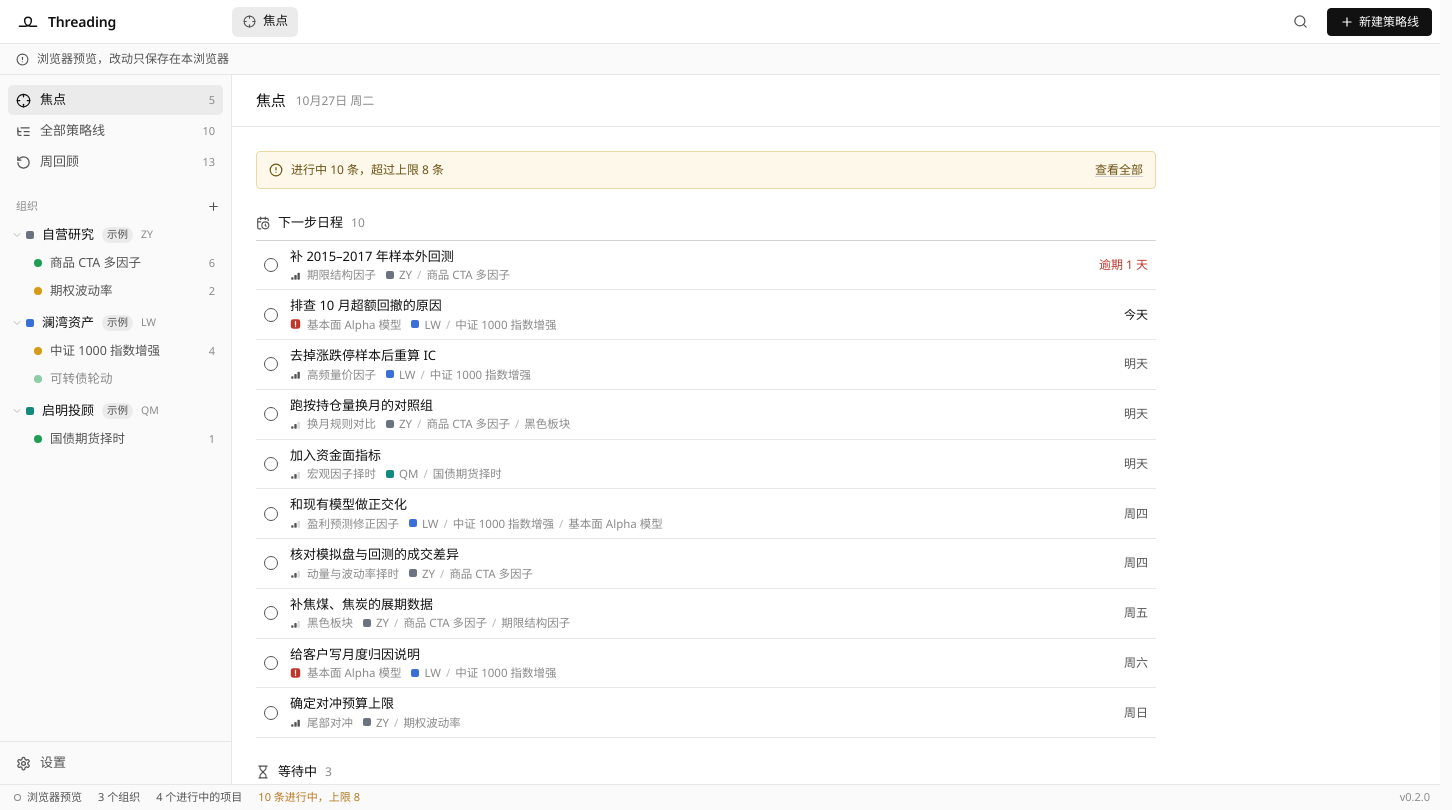
it: Threading › shows a project with its threads, hill chart and activity
Expected: the heading "焦点" is shown, [256,89,286,112]
Click the button "中证 1000 指数增强 4" at (116, 351), box [8,337,223,365]
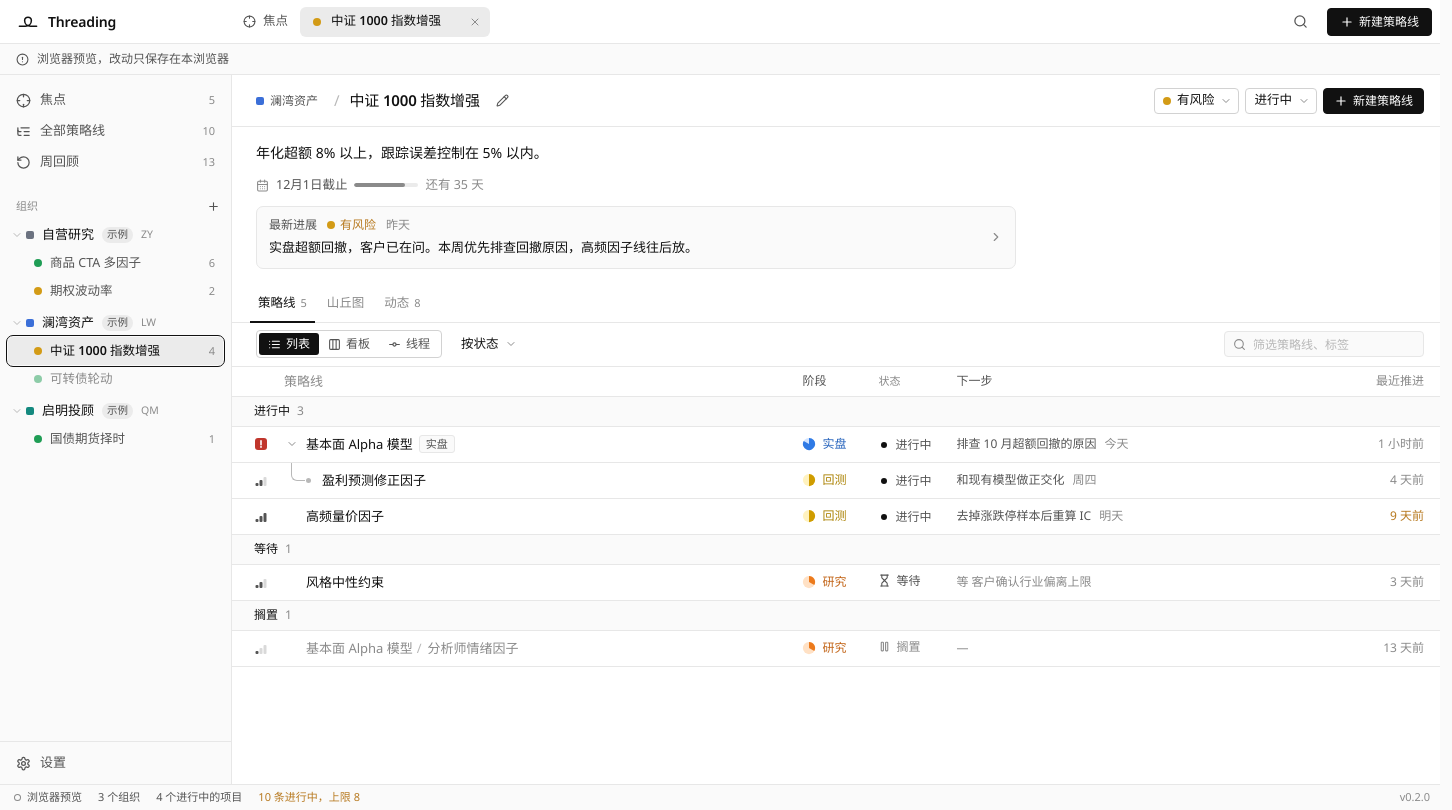
Result: the heading "中证 1000 指数增强" is shown at [334,89,480,112]
Result: the text "基本面 Alpha 模型" is shown 2 times at [306,435,413,454]; [306,639,413,658]
Click the button "山丘图" at (346, 304), box [319,286,372,323]
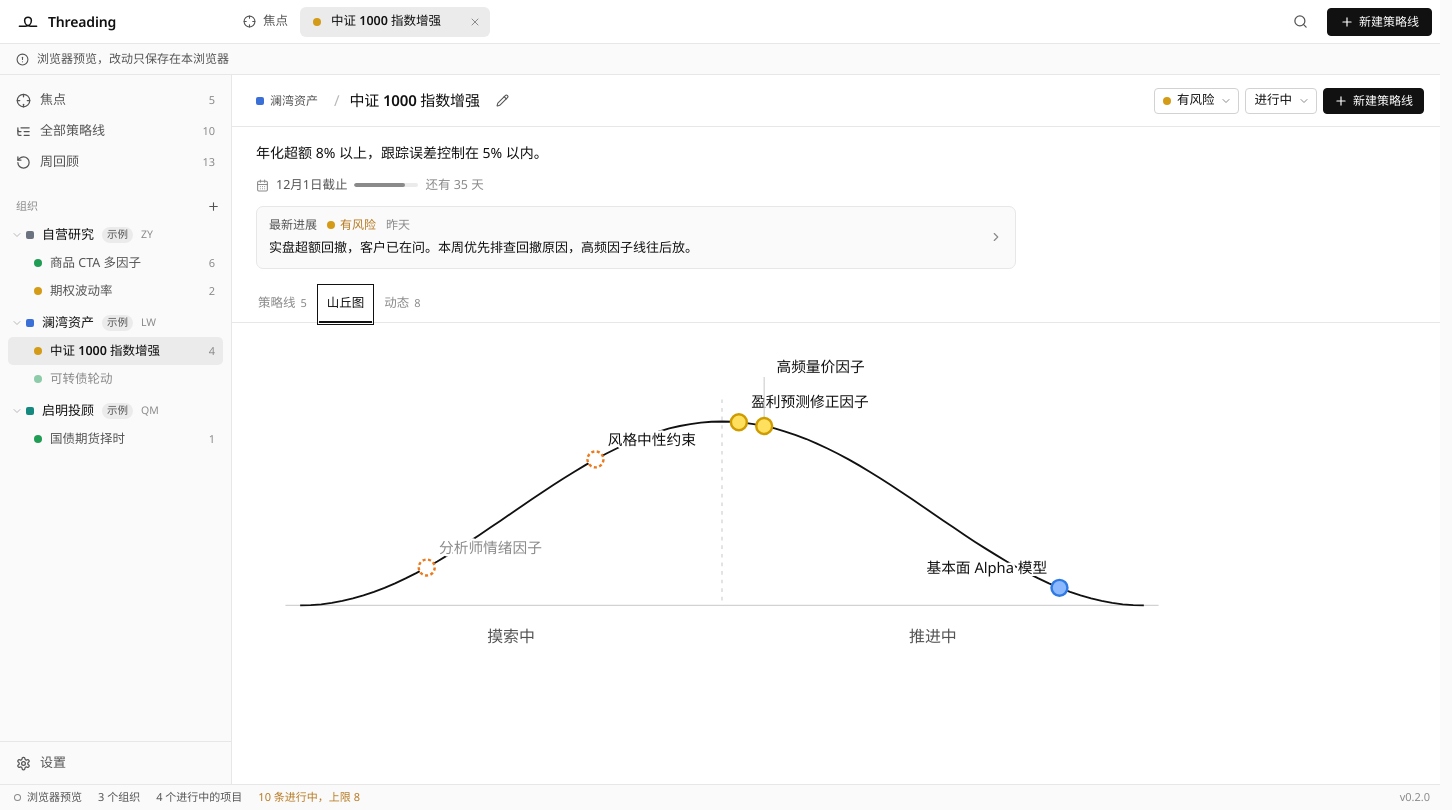
Click the button "动态 8" at (402, 304), box [376,286,429,323]
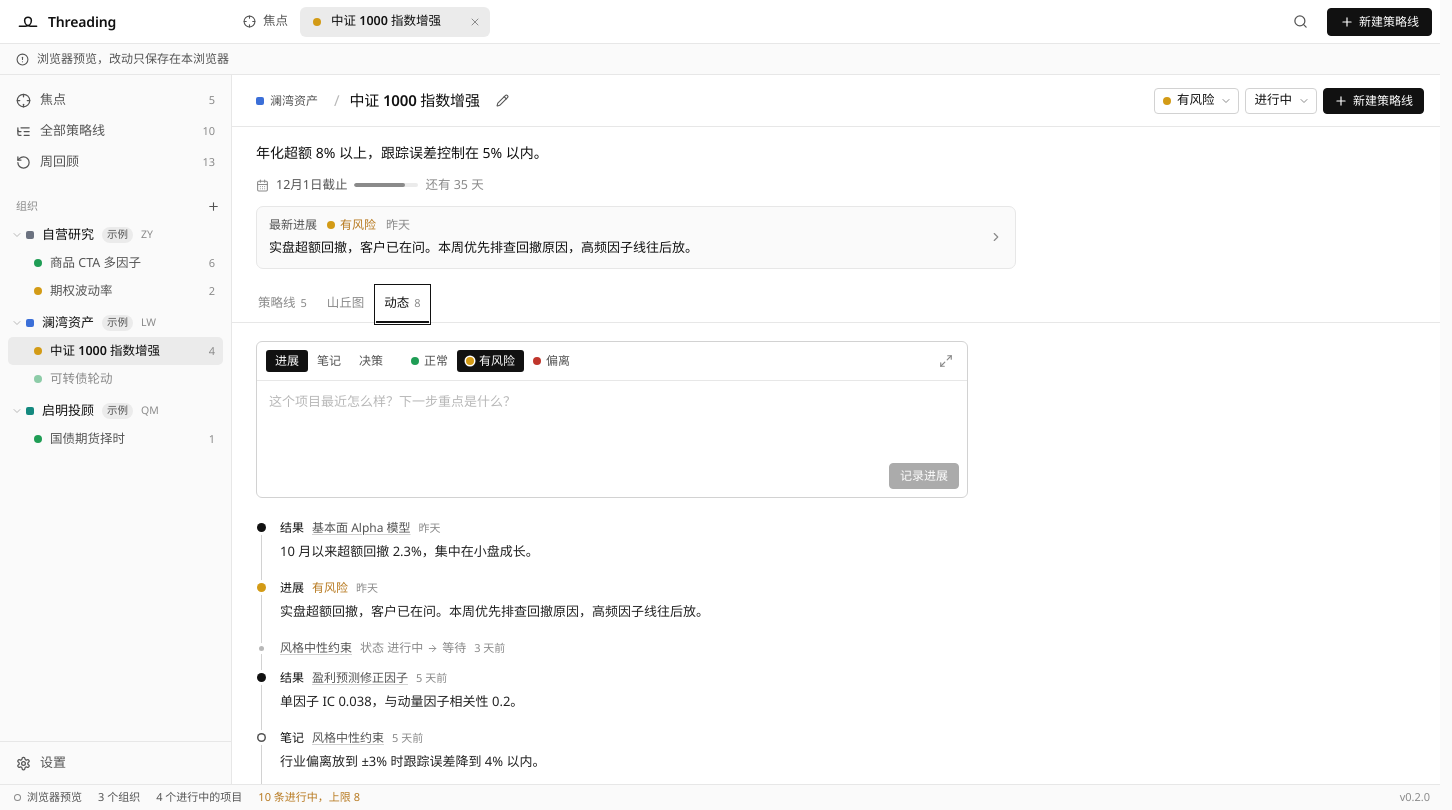
Type "回撤原因找到了，是小盘因子暴露。" into the text box named "记录内容" at (612, 419), box [257,381,967,457]
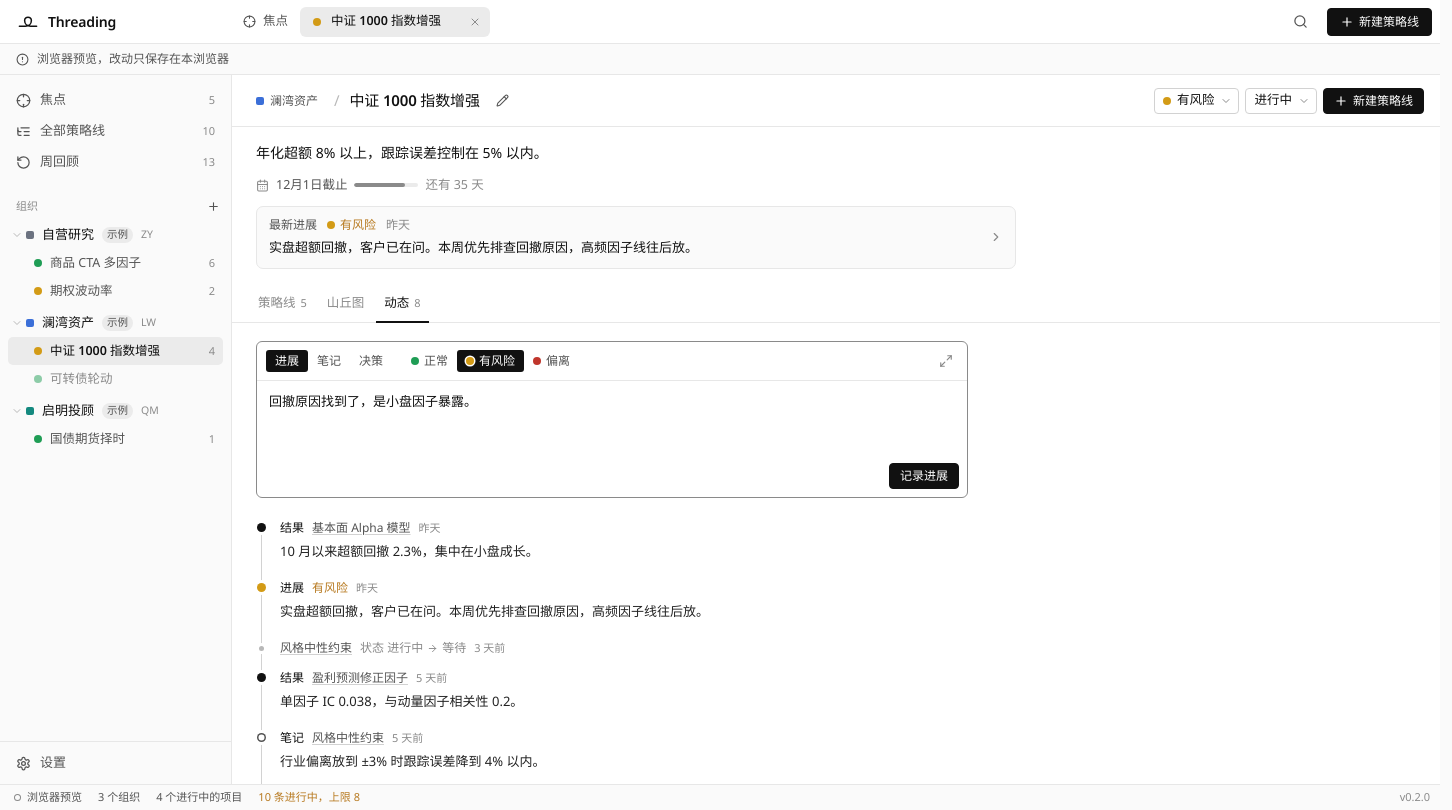
Click the radio button labelled "正常" at (430, 361), box [402,350,457,372]
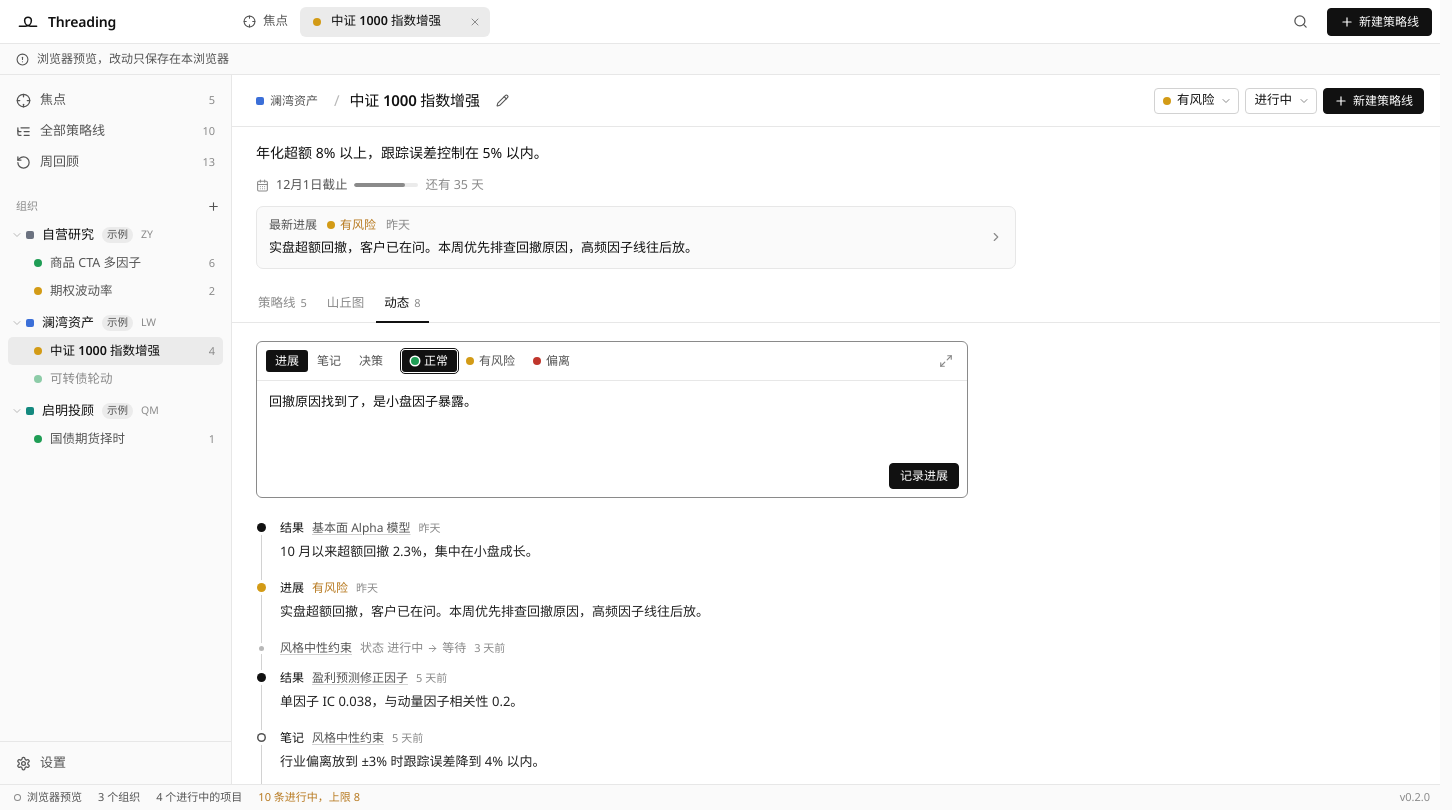
Click the button "记录进展" at (924, 476), box [889,463,959,489]
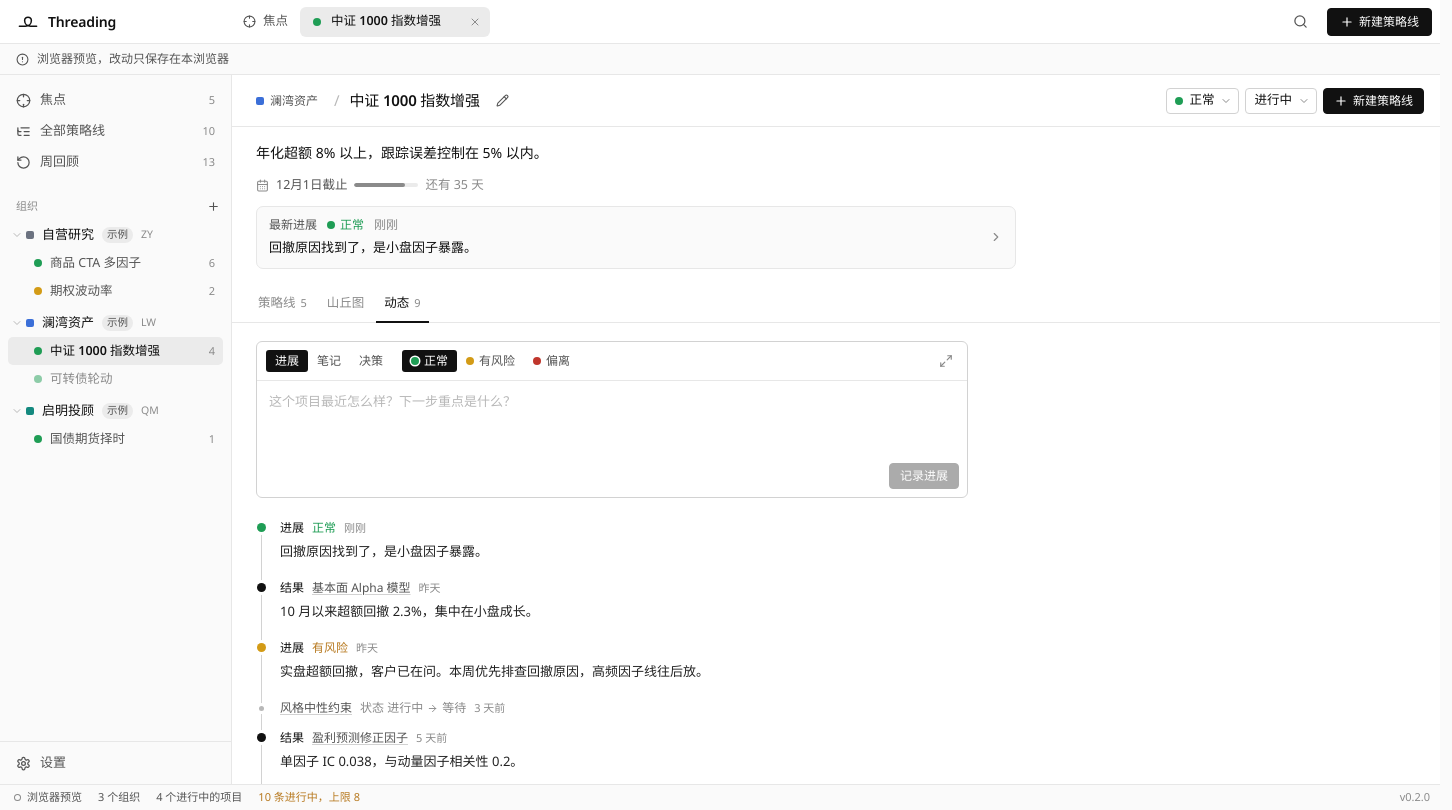
Result: the text "回撤原因找到了，是小盘因子暴露。" is shown 2 times at [269,238,477,256]; [280,542,488,560]
Result: the text "回撤原因找到了，是小盘因子暴露。" below "年化超额 8% 以上，跟踪误差控制在 5% 以内。" is shown at [269,238,477,256]
Result: the button with aria-label "健康度：正常" is shown at [1166,88,1240,114]
